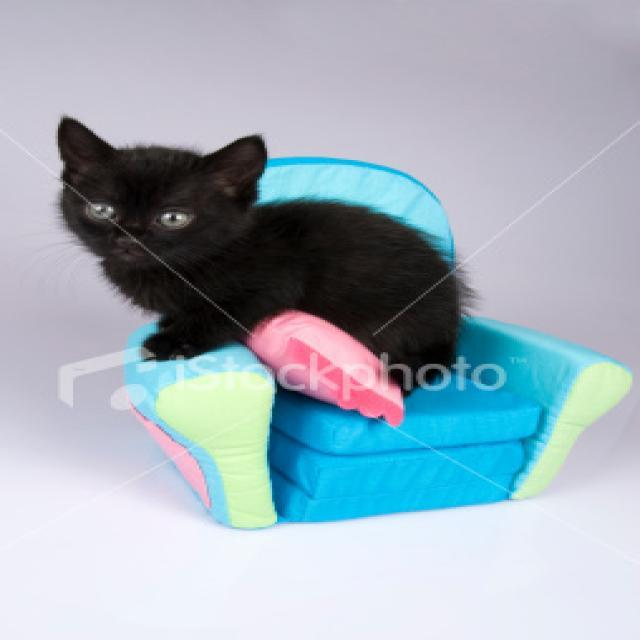Bombay: (53, 115, 262, 263)
